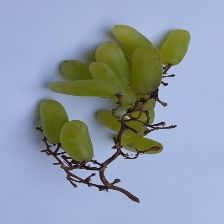grapes: (50, 0, 215, 200)
